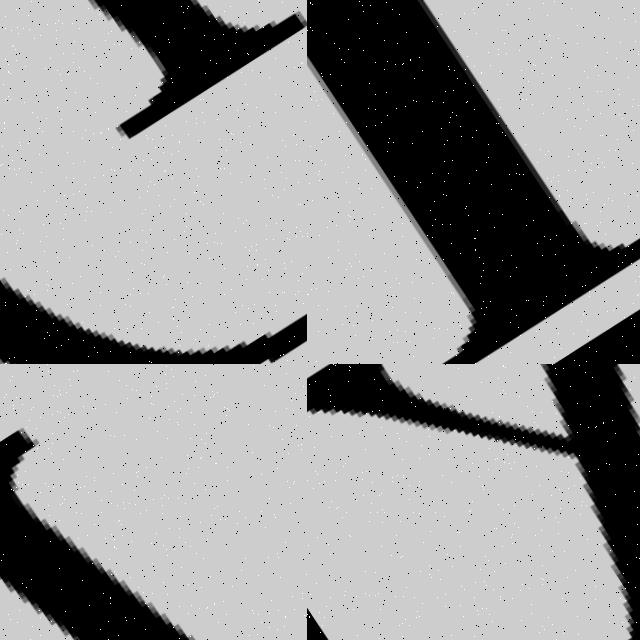G: (0, 0, 307, 364)
I: (307, 0, 640, 364)
T: (0, 364, 307, 640)
X: (307, 364, 640, 640)
